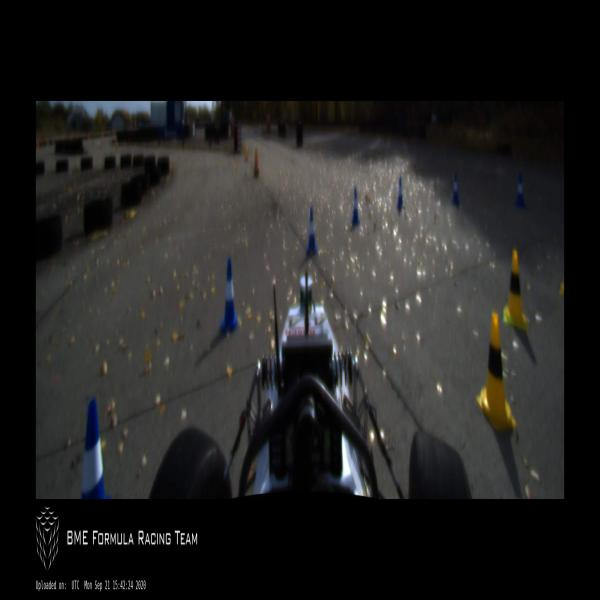blue_cone: (81, 398, 113, 498), (219, 260, 239, 332), (306, 208, 317, 251), (515, 173, 526, 208), (351, 189, 360, 226), (451, 174, 460, 202), (396, 179, 404, 208)
yellow_cone: (476, 312, 517, 429), (502, 252, 528, 328)
